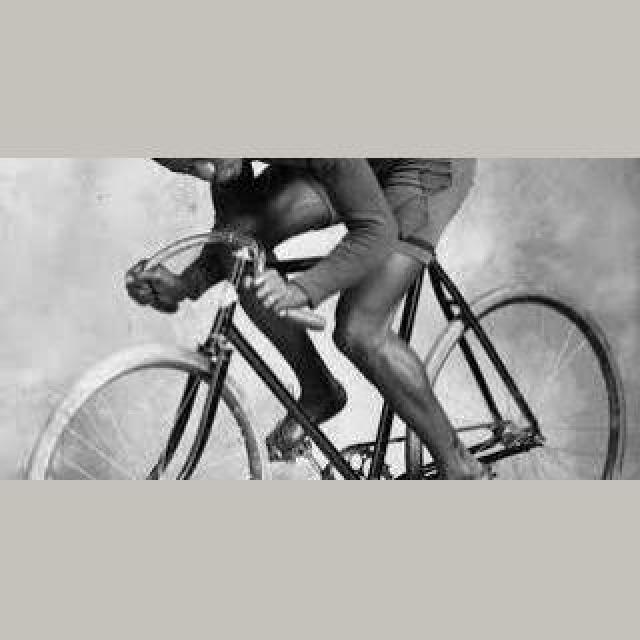MC-Bike: (146, 160, 486, 474)
Person: (22, 234, 630, 480)
